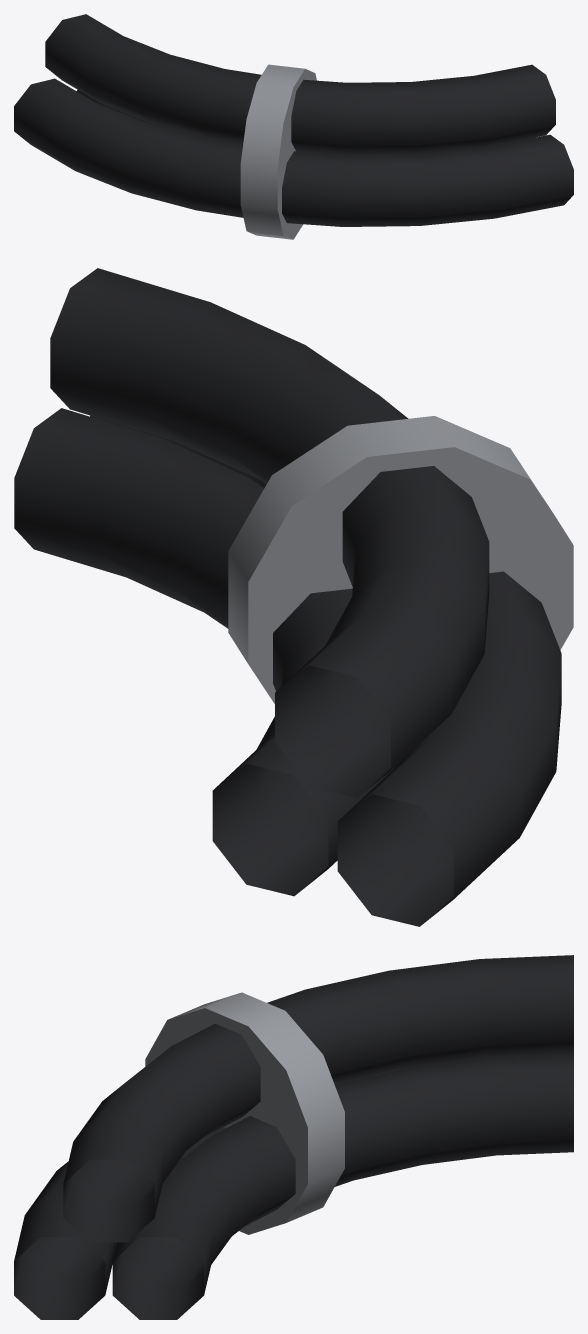
File: bend_north_east.obj
The picture shows the model from 3 angles, top to bottom: view 1: azimuth 30°, elevation 25°; view 2: azimuth 150°, elevation 25°; view 3: azimuth 270°, elevation 25°; orthographic projection. The views are drawn at different scales.
Visible parts, largest first — view 1: bend_north_east; view 2: bend_north_east; view 3: bend_north_east.
Boxes of the visible parts, x1,y1,x2,y2 form: bend_north_east: [14, 14, 573, 239]; bend_north_east: [14, 268, 573, 926]; bend_north_east: [14, 955, 573, 1319].
Bounding box in the file's own units: 0.6022 × 0.2475 × 0.6022.
